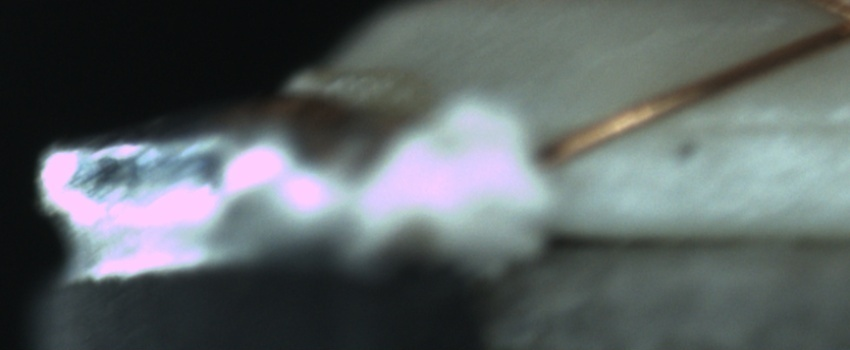DL: (671, 93, 849, 158)
